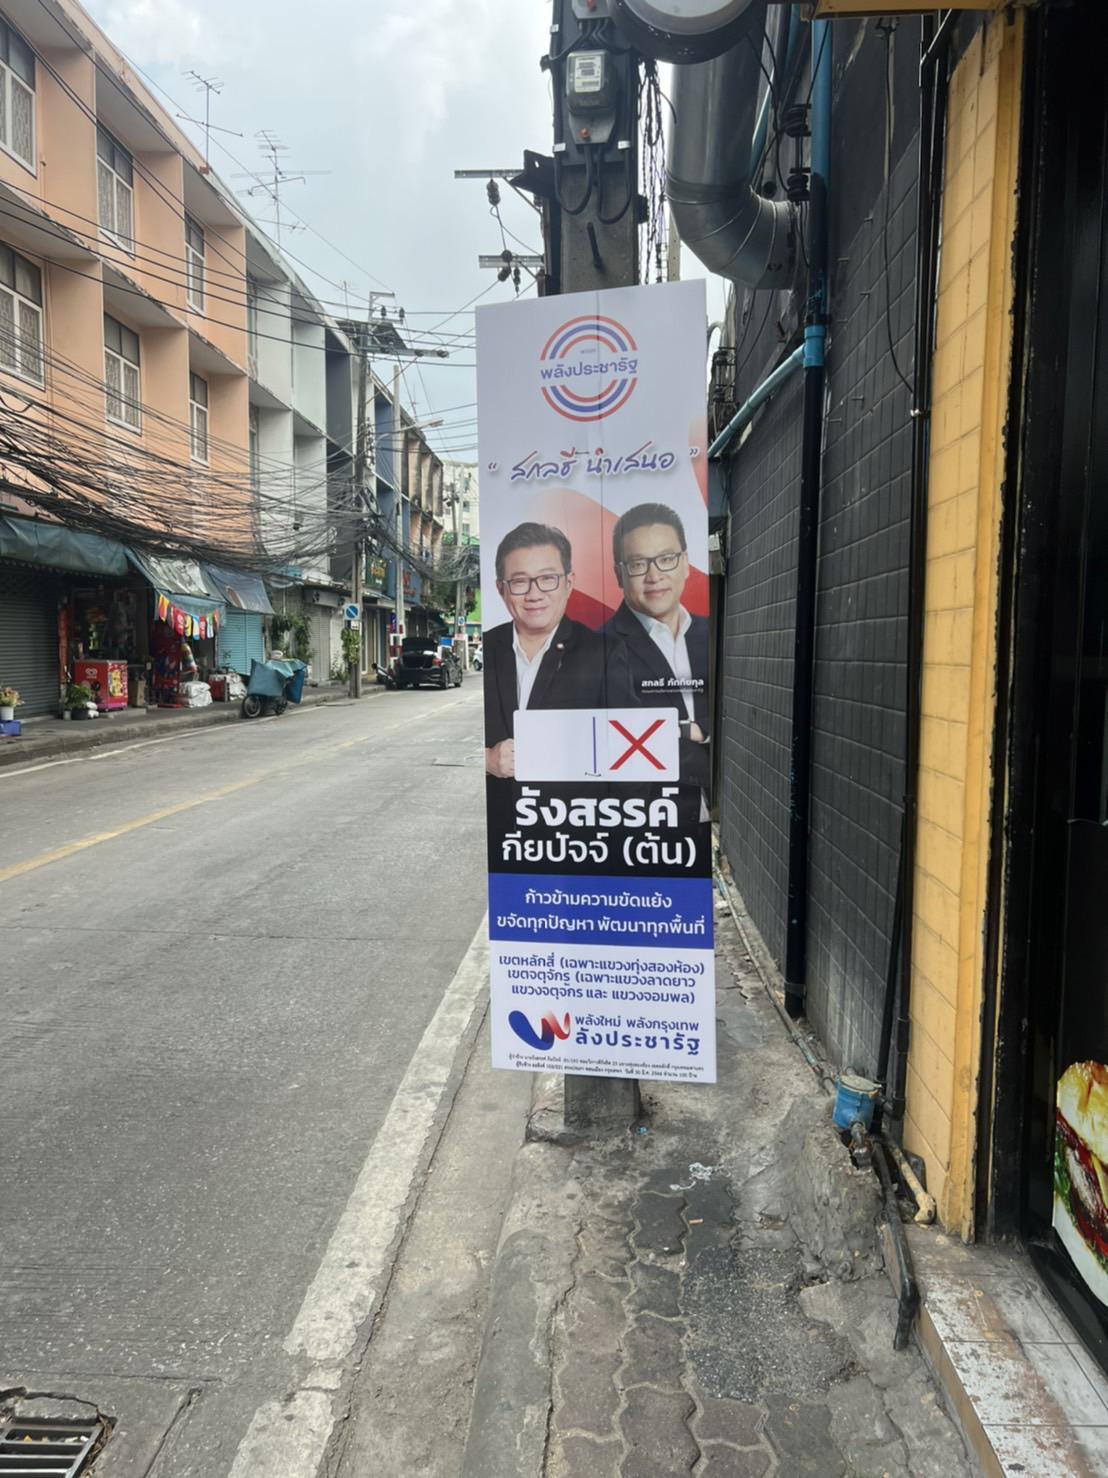Banner: (452, 284, 730, 1089)
